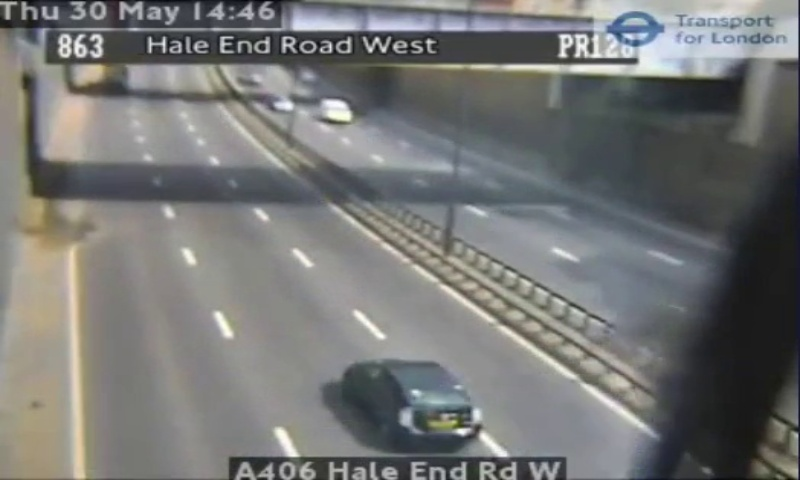car: (346, 360, 482, 444)
